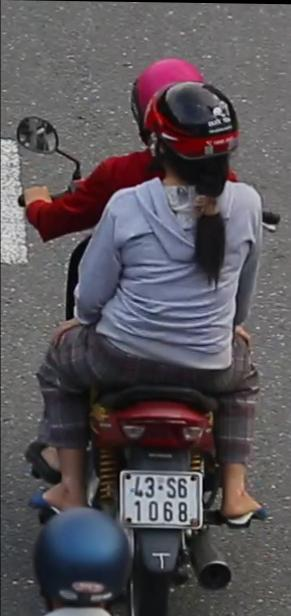LP: (116, 466, 205, 535)
helmet: (148, 79, 244, 195)
